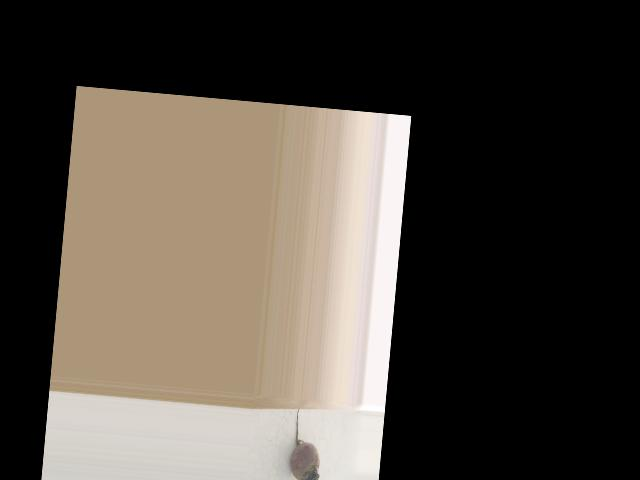beet: (286, 405, 324, 480)
